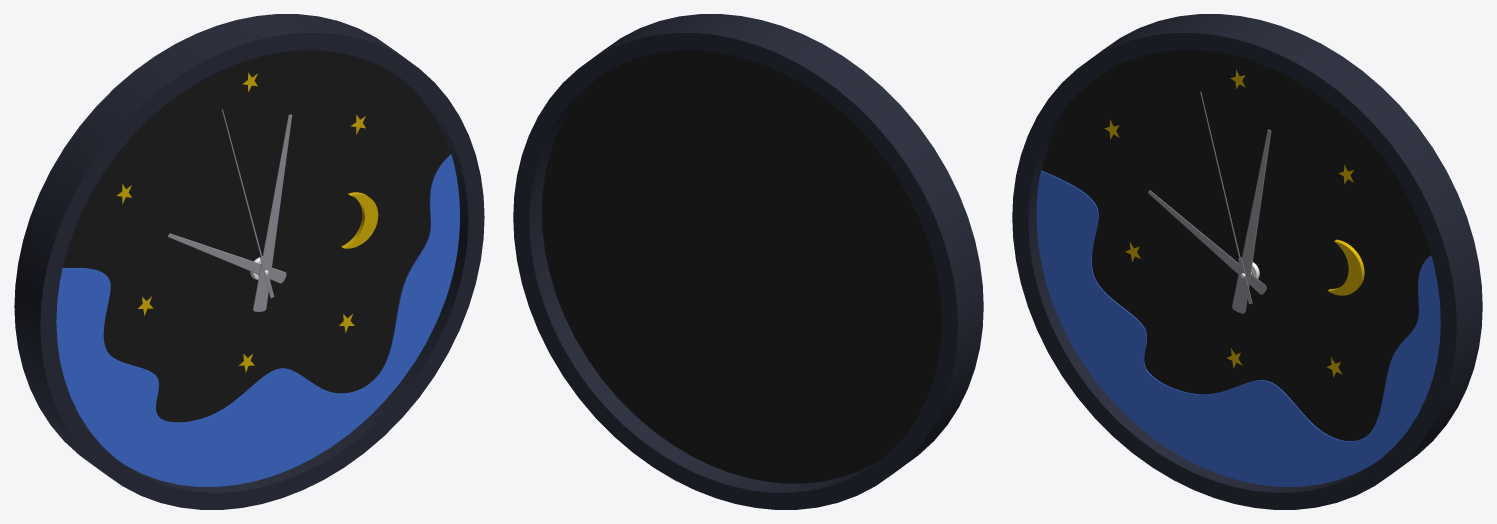
The model's file is saat008 (1).fbx.
3 views of the same model, side by side, from view 1: azimuth 30°, elevation 25°; view 2: azimuth 150°, elevation 25°; view 3: azimuth 330°, elevation 25° (orthographic).
Parts seen in each view (by area): view 1: saat8; view 2: saat8; view 3: saat8.
Part boxes in pixels (x1,y1,x2,y2): saat8: (14, 14, 484, 509); saat8: (513, 14, 983, 509); saat8: (1012, 14, 1482, 509).
Size of the model in its own units: 41.18 by 41.17 by 4.18.
